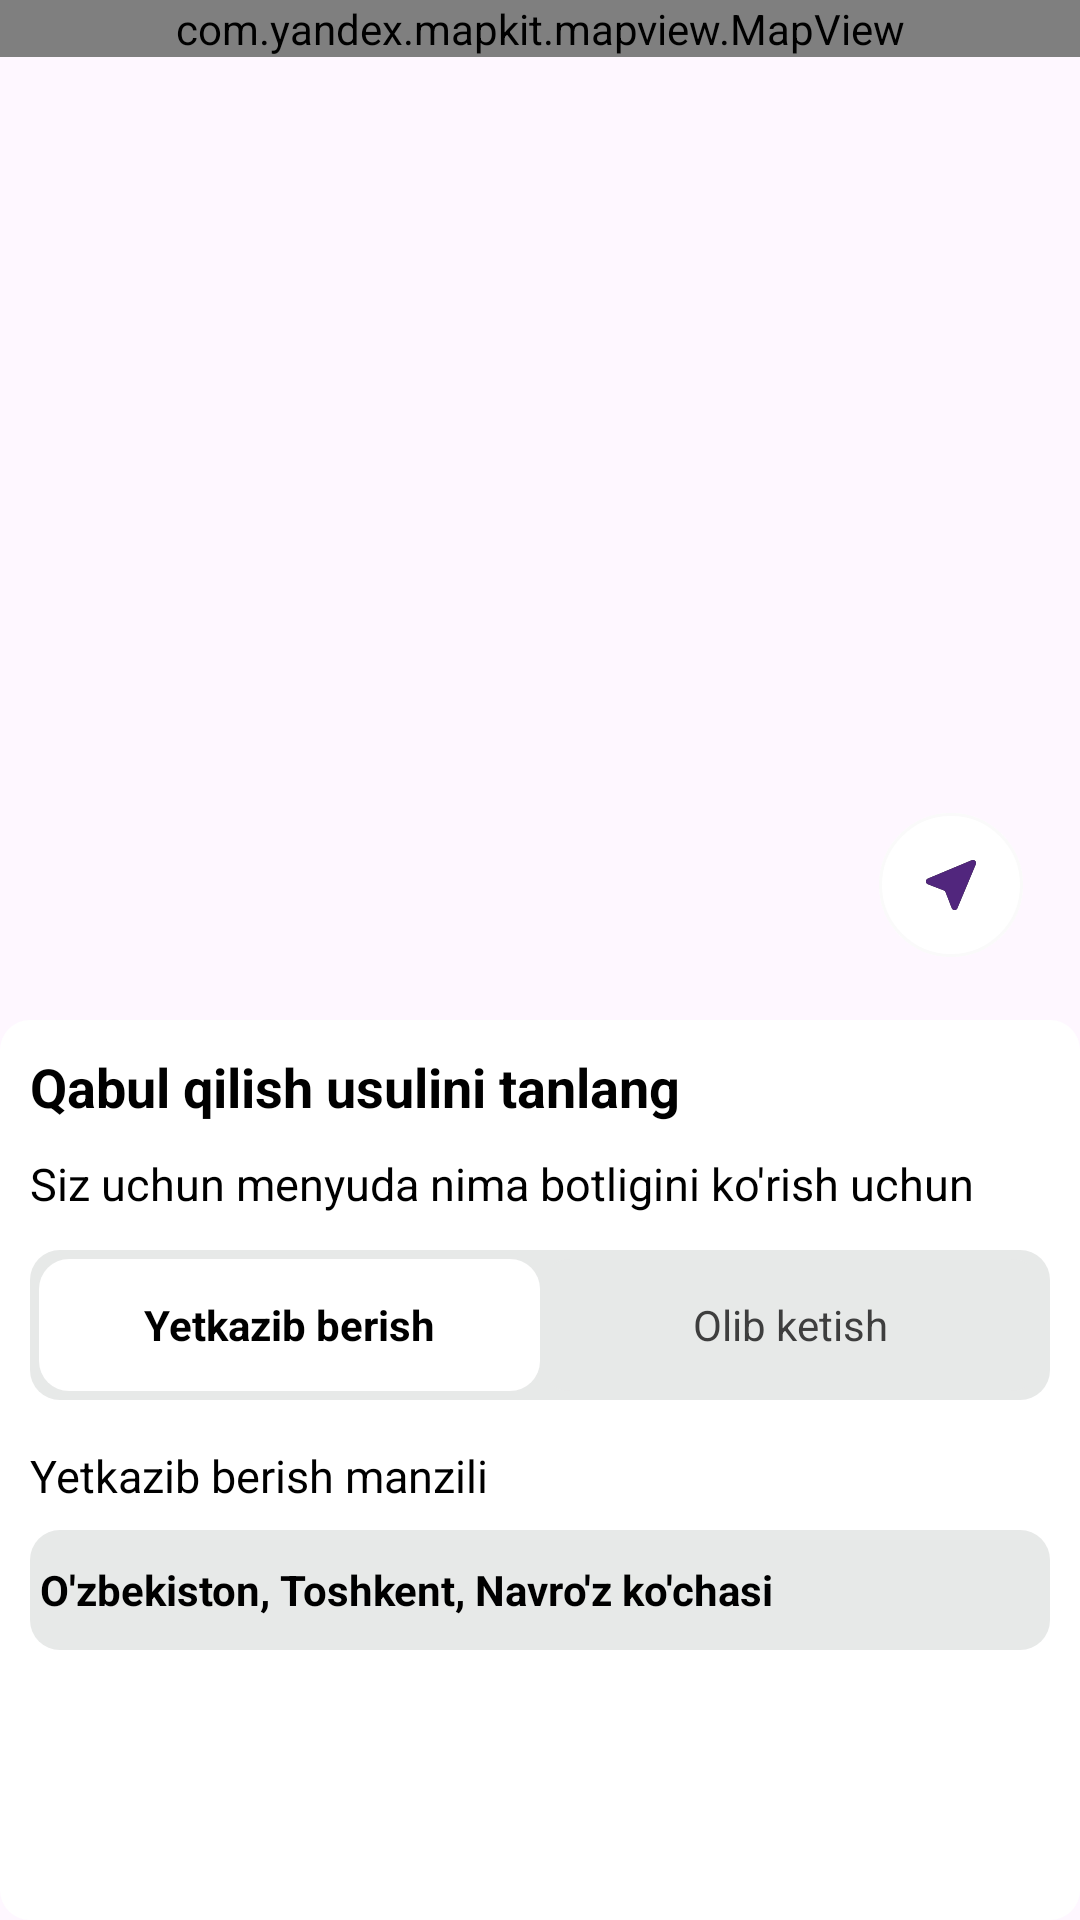

Icon bounding boxes for this 1080px×1920px phone screenshot, format (x1, y1, x2, y2):
navigation: (926, 860, 976, 910)
